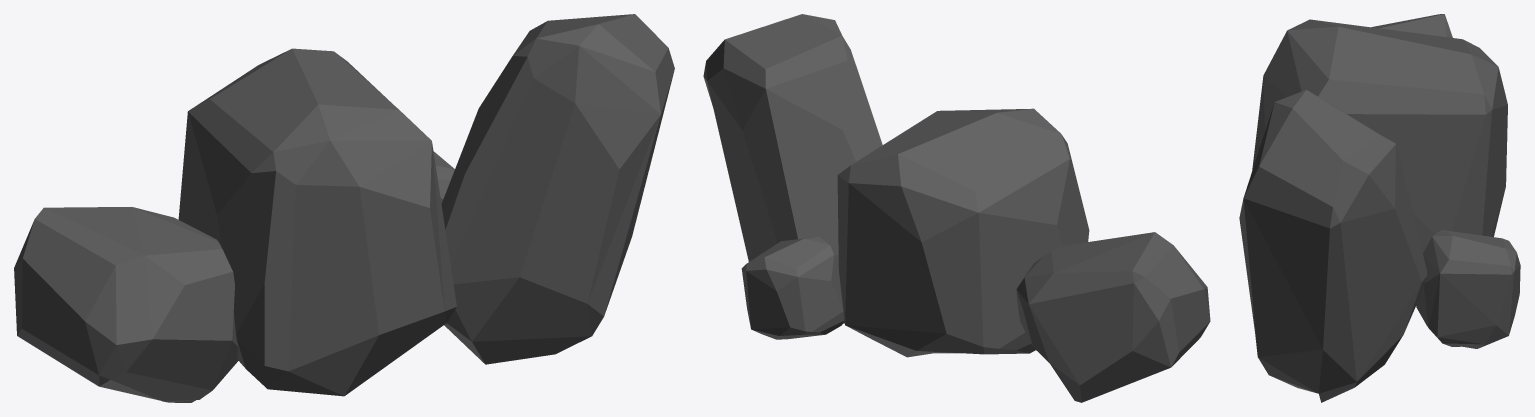
The model's file is Stone.gltf.
The picture shows the model from 3 angles, left to right: view 1: azimuth 30°, elevation 25°; view 2: azimuth 150°, elevation 25°; view 3: azimuth 270°, elevation 25°; orthographic projection. The views are drawn at different scales.
Parts seen in each view (by area): view 1: Cube; view 2: Cube; view 3: Cube.
Part boxes in pixels (<box>): Cube: <box>14,14,674,402</box>; Cube: <box>703,14,1210,402</box>; Cube: <box>1239,14,1520,402</box>.
Size of the model in its own units: 21.61 by 11.42 by 9.37.
1 material, 1 textured.
